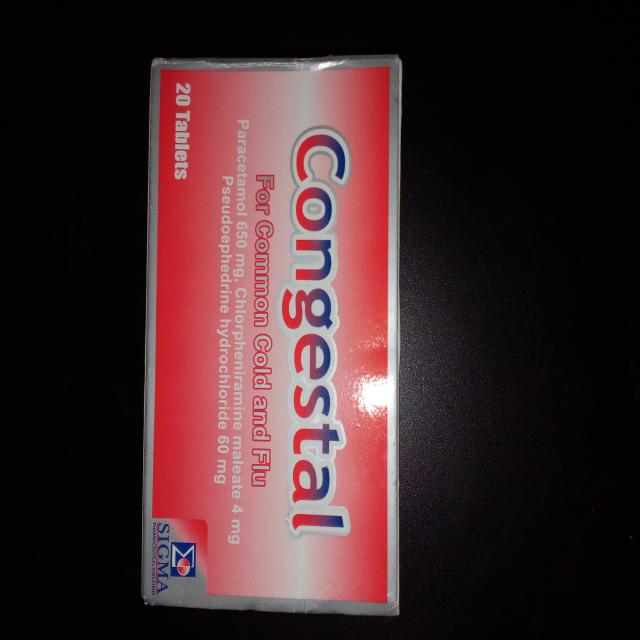Medicine: (138, 44, 404, 614)
